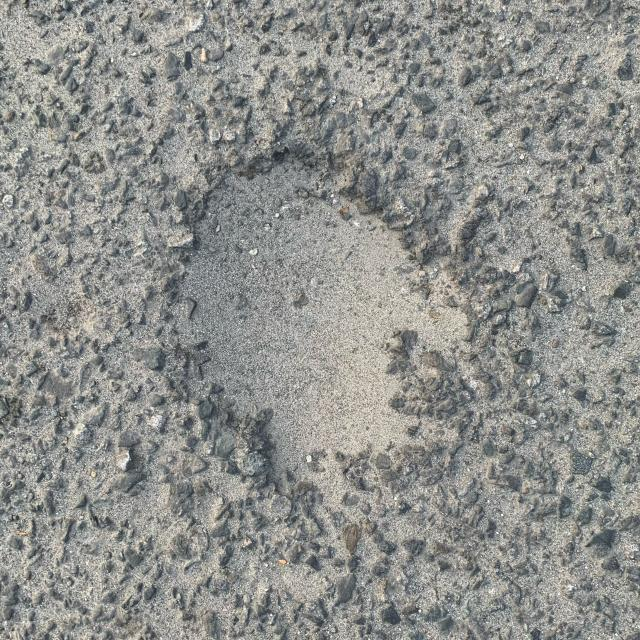unexpected: (1, 10, 640, 632)
